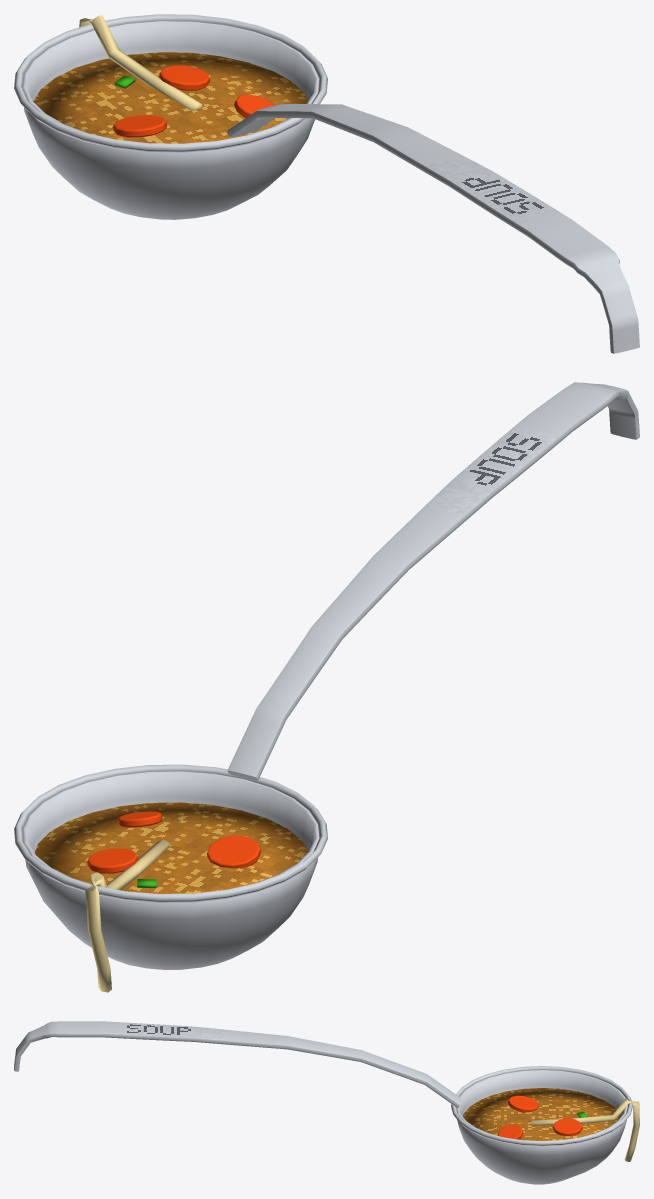
The model's file is w_knife_ladle.glb.
The picture shows the model from 3 angles, top to bottom: view 1: azimuth 30°, elevation 25°; view 2: azimuth 150°, elevation 25°; view 3: azimuth 270°, elevation 25°; orthographic projection. The views are drawn at different scales.
Parts seen in each view (by area): view 1: kladle_bowl_wzB, kladle_soup_wzN, kladle_handle_wzA; view 2: kladle_bowl_wzB, kladle_handle_wzA, kladle_soup_wzN; view 3: kladle_bowl_wzB, kladle_soup_wzN, kladle_handle_wzA.
Boxes of the visible parts, x1=… form: kladle_bowl_wzB: x1=14, y1=14, x2=327, y2=219; kladle_soup_wzN: x1=33, y1=15, x2=308, y2=143; kladle_handle_wzA: x1=227, y1=104, x2=639, y2=353; kladle_bowl_wzB: x1=14, y1=764, x2=327, y2=969; kladle_handle_wzA: x1=227, y1=382, x2=639, y2=780; kladle_soup_wzN: x1=34, y1=802, x2=308, y2=992; kladle_bowl_wzB: x1=451, y1=1066, x2=632, y2=1184; kladle_soup_wzN: x1=462, y1=1088, x2=639, y2=1161; kladle_handle_wzA: x1=14, y1=1021, x2=460, y2=1107.
Size of the model in its own units: 0.0988 by 0.0894 by 0.3396.
6 materials, 2 textured.
